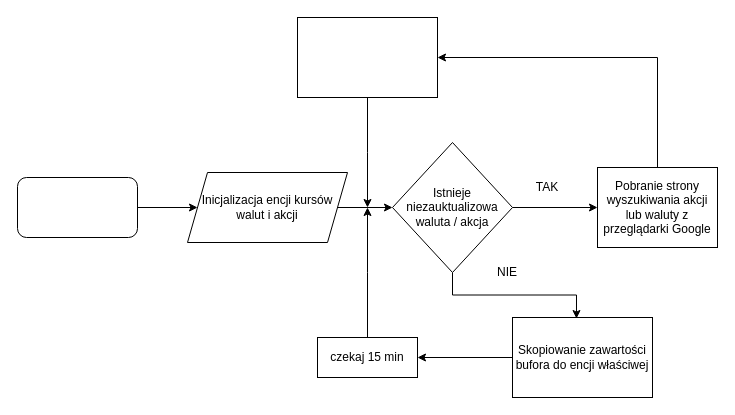
Some shapes in this 735 by 415 pixel diagram are drawn without their labels. Here are the shapes that lost their labels. From the top down, the box of each, then its label:
(296, 16, 438, 98): Skopiowanie zawartości znacznika HTML z kursem akcji lub waluty do bufora
(16, 176, 138, 238): Uruchomienie aplikacji
